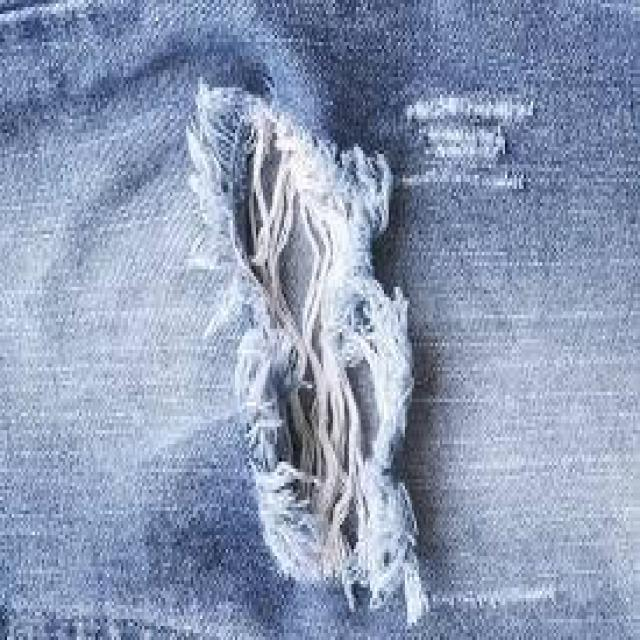cut: (221, 100, 414, 586)
